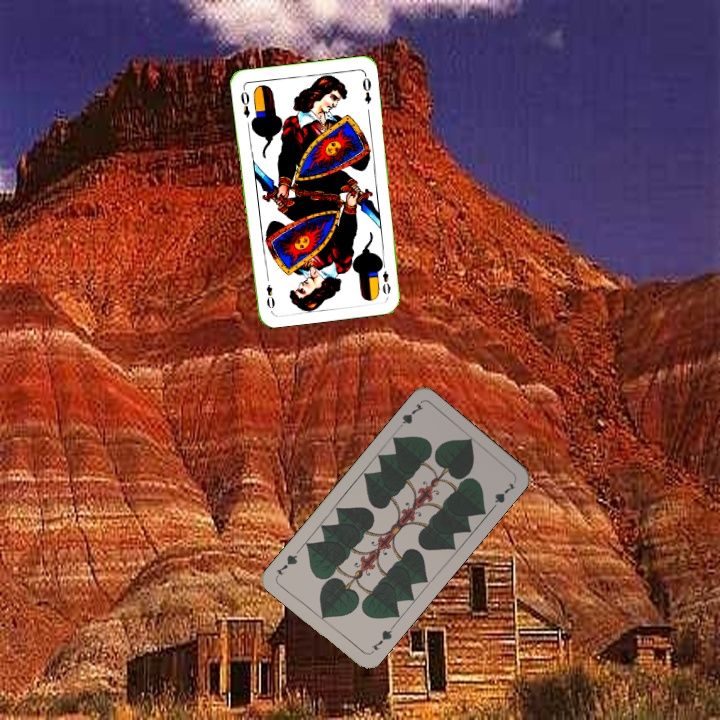EO: (376, 258, 393, 297), (236, 84, 253, 120)
G7: (393, 399, 425, 433), (366, 622, 396, 656)
